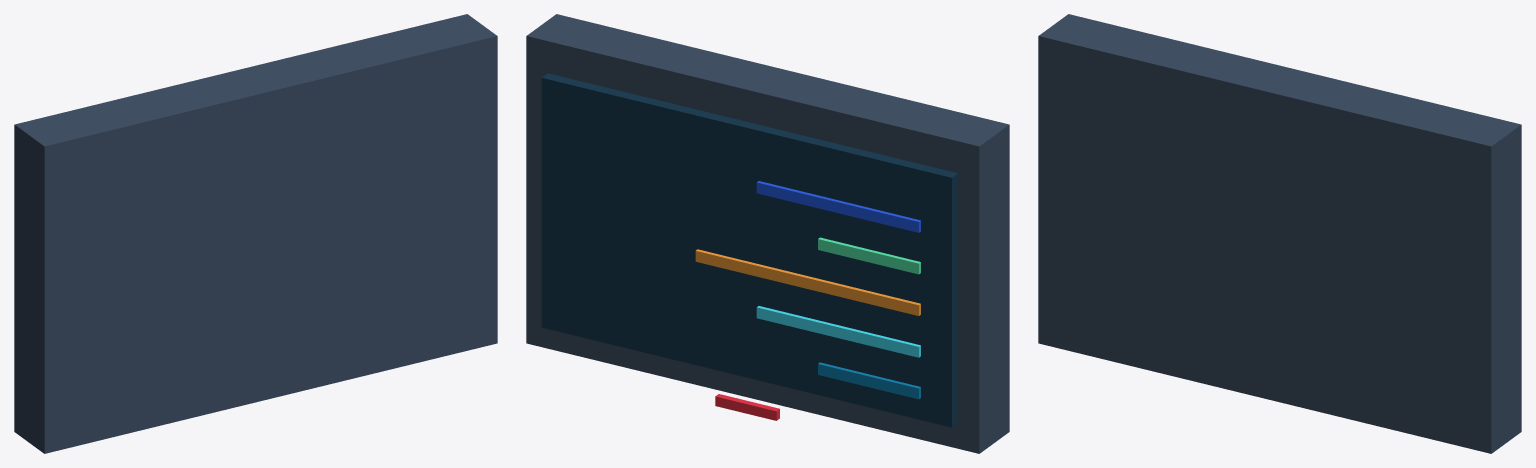
Rendered from env_wall_monitor.obj.
3 renders of one model, left to right at view 1: azimuth 30°, elevation 25°; view 2: azimuth 150°, elevation 25°; view 3: azimuth 330°, elevation 25°, orthographic.
Size of the model in its own units: 1.48 by 0.99 by 0.218.
